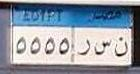5: (58, 38, 71, 55), (44, 37, 56, 55), (16, 37, 28, 55), (29, 37, 42, 53)
noon: (114, 37, 129, 58)
raa: (77, 38, 91, 56)
seen: (92, 38, 113, 57)
